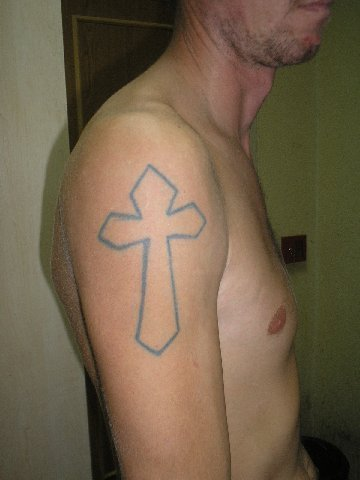tatu9_krest: (90, 163, 211, 359)
